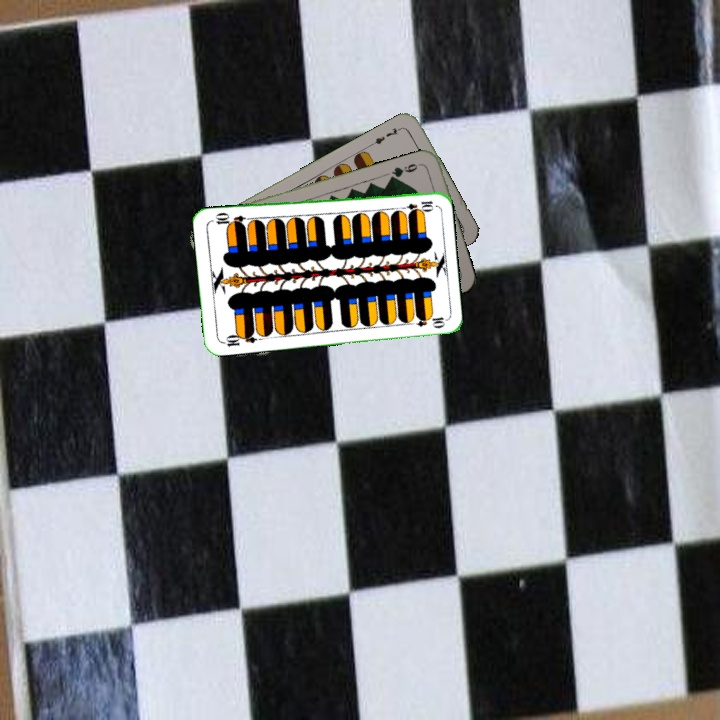E10: (218, 328, 259, 350), (395, 197, 436, 213)
E7: (367, 123, 405, 148)
G9: (386, 159, 425, 182)
